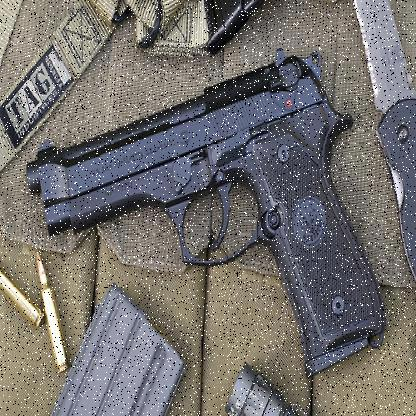pistol: (27, 47, 384, 375)
